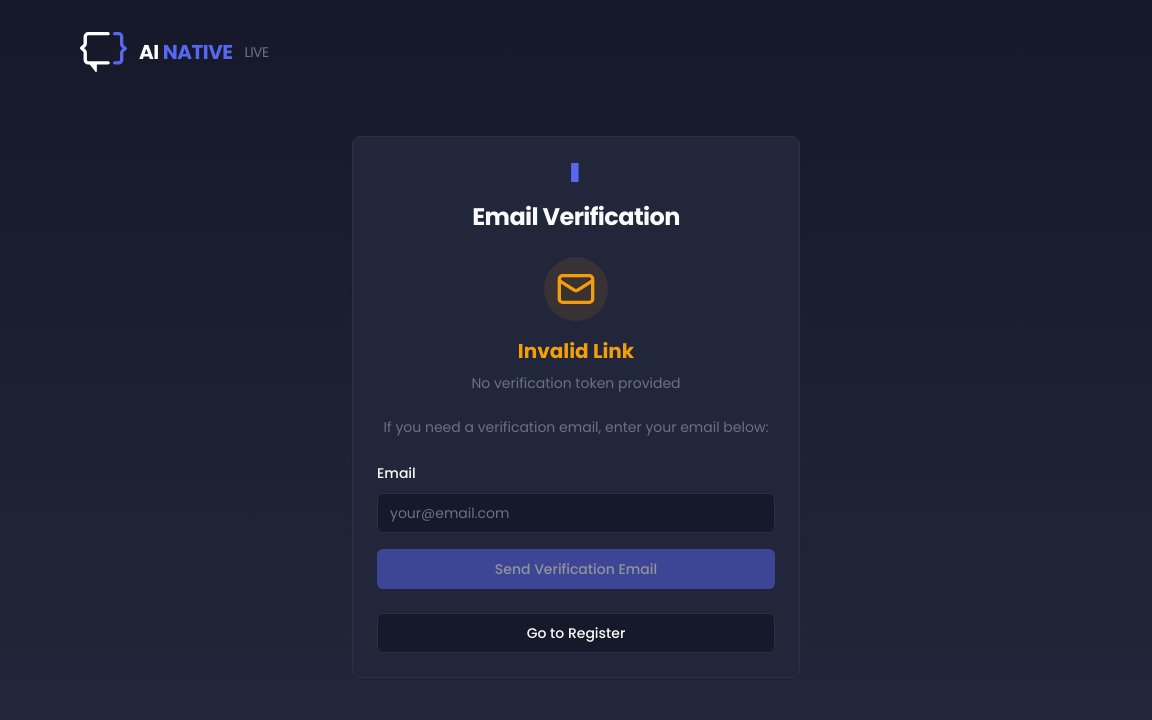
Test case: EmailVerificationPage › when no token is provided › should handle resend errors
The width and height of the screenshot is (1152, 720).
Note: When resending verification email
Step 1. Type "notfound@example.com" into the field labelled "Email" → coordinates (576, 513), box [377, 493, 775, 533]
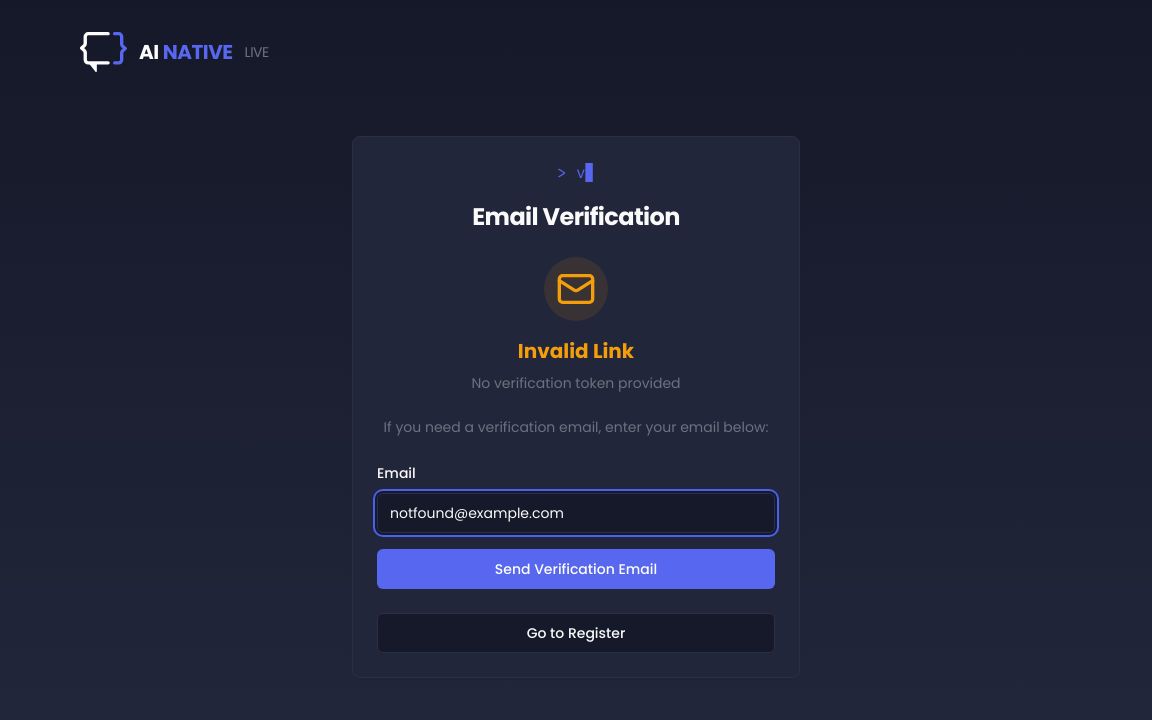
Step 2. Click the button "Send Verification Email" → coordinates (576, 569), box [377, 549, 775, 589]
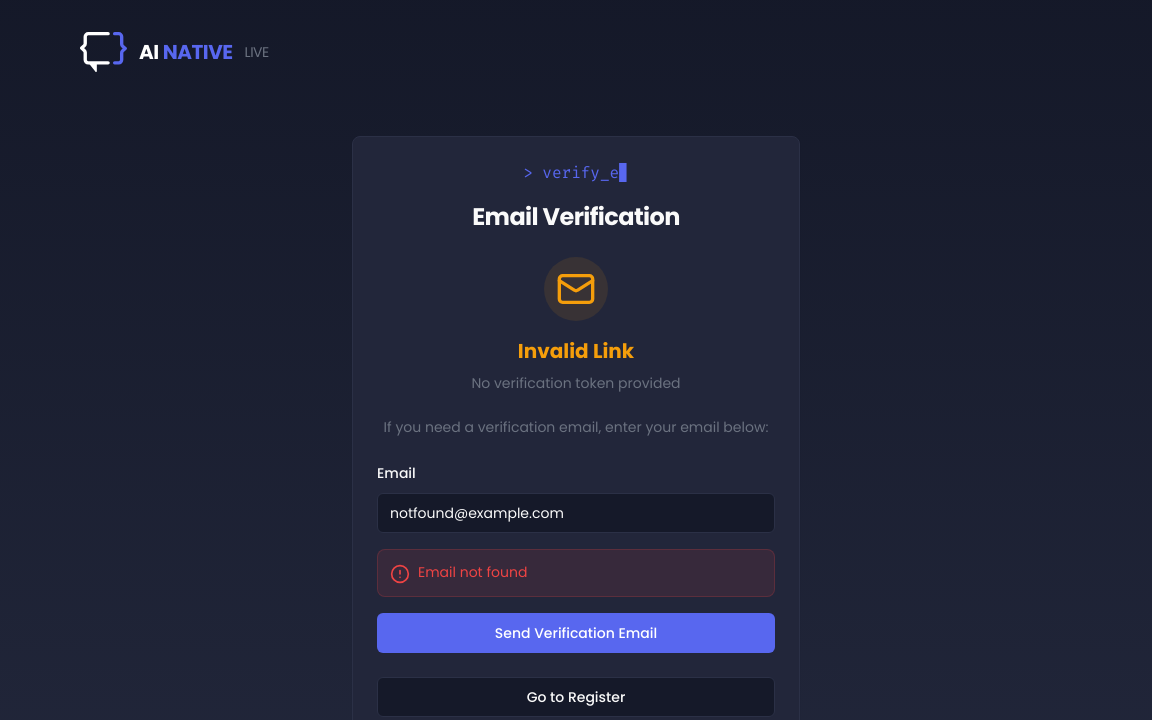
Expected: the text "Email not found" is shown, [418, 562, 527, 582]
